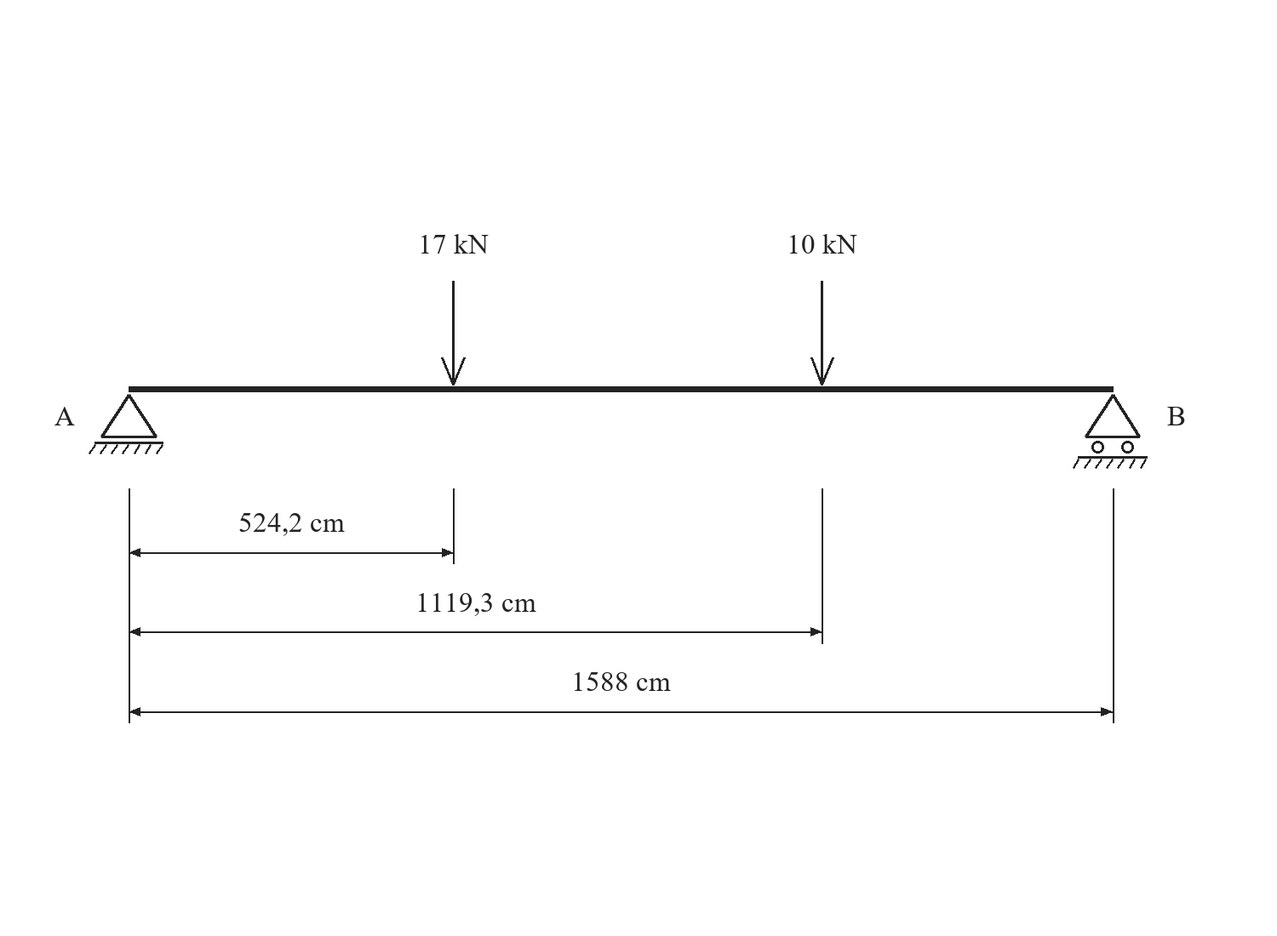pin_support: (89, 394, 163, 454)
point_load: (441, 281, 466, 385), (810, 281, 834, 385)
roller_support: (1073, 394, 1148, 469)
